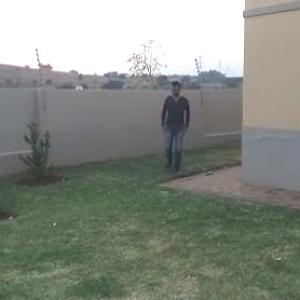follow: (160, 79, 192, 174)
